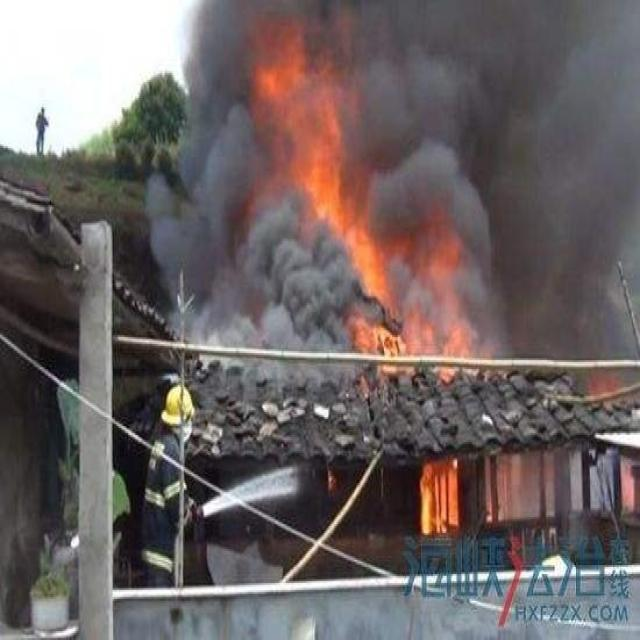Fire: (252, 48, 392, 309), (355, 319, 408, 373), (421, 460, 458, 535)
Smoke: (475, 2, 640, 353), (140, 0, 256, 359), (392, 2, 482, 310), (248, 9, 396, 52), (260, 310, 356, 372)
